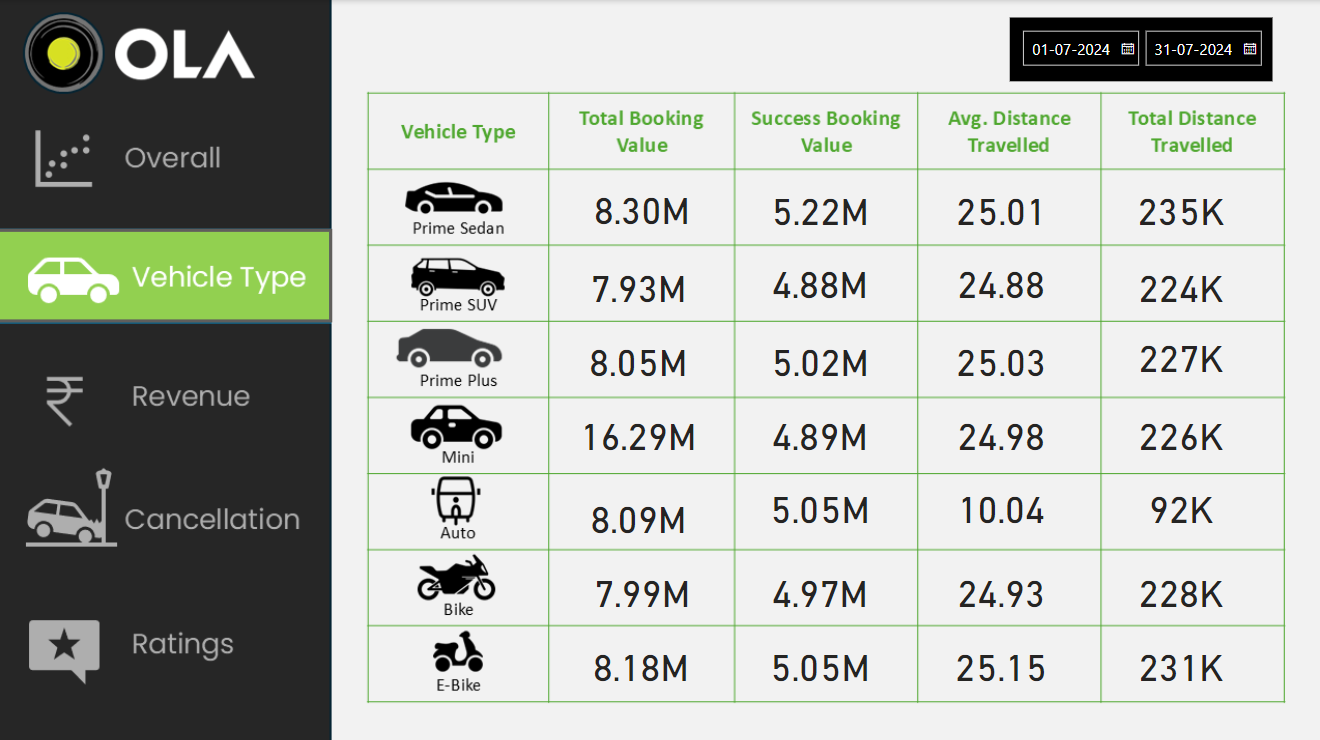

This screenshot's page, from the dashboard's own definition file:
{"tool":"powerbi","page":{"name":"Vehicle Type","canvas":[1280,720],"ordinal":1},"visuals":[{"type":"actionButton","box":[0,220.8,324.5,90.5],"z":0},{"type":"card","fields":{"Values":["Sum(July.Booking_Value)"]},"box":[539.3,165.3,168.9,71.2],"z":1000},{"type":"card","fields":{"Values":["Sum(July.Booking_Value)"]},"box":[535.7,240.3,169.1,71.2],"z":2000},{"type":"card","fields":{"Values":["Sum(July.Booking_Value)"]},"box":[535.7,311.5,169.1,71.2],"z":3000},{"type":"card","fields":{"Values":["Sum(July.Booking_Value)"]},"box":[535.7,382.7,169.1,71.2],"z":4000},{"type":"card","fields":{"Values":["Sum(July.Booking_Value)"]},"box":[535.7,462.7,169.1,71.2],"z":5000},{"type":"card","fields":{"Values":["Sum(July.Booking_Value)"]},"box":[539.3,533.9,169.1,71.2],"z":6000},{"type":"card","fields":{"Values":["Sum(July.Booking_Value)"]},"box":[537.5,605.1,169.1,71.2],"z":7000},{"type":"card","fields":{"Values":["Sum(July.Booking_Value)"]},"box":[708.4,165.5,174.4,71.2],"z":8000},{"type":"card","fields":{"Values":["Sum(July.Booking_Value)"]},"box":[708.4,236.7,174.4,71.2],"z":9000},{"type":"card","fields":{"Values":["Sum(July.Booking_Value)"]},"box":[708.4,311.5,174.4,71.2],"z":10000},{"type":"card","fields":{"Values":["Sum(July.Booking_Value)"]},"box":[708.4,382.7,174.4,71.2],"z":11000},{"type":"card","fields":{"Values":["Sum(July.Booking_Value)"]},"box":[708.4,453.8,174.4,71.2],"z":12000},{"type":"card","fields":{"Values":["Sum(July.Booking_Value)"]},"box":[708.4,533.9,174.4,71.2],"z":13000},{"type":"card","fields":{"Values":["Sum(July.Booking_Value)"]},"box":[708.4,605.1,174.4,71.2],"z":14000},{"type":"card","fields":{"Values":["Avg(July.Ride_Distance)"]},"box":[882.8,165.5,174.4,71.2],"z":15000},{"type":"card","fields":{"Values":["Avg(July.Ride_Distance)"]},"box":[882.8,236.7,174.4,71.2],"z":16000},{"type":"card","fields":{"Values":["Avg(July.Ride_Distance)"]},"box":[882.8,311.5,174.4,71.2],"z":17000},{"type":"card","fields":{"Values":["Avg(July.Ride_Distance)"]},"box":[882.8,382.7,174.4,71.2],"z":18000},{"type":"card","fields":{"Values":["Avg(July.Ride_Distance)"]},"box":[882.8,453.8,174.4,71.2],"z":19000},{"type":"card","fields":{"Values":["Avg(July.Ride_Distance)"]},"box":[882.8,533.9,174.4,71.2],"z":20000},{"type":"card","fields":{"Values":["Avg(July.Ride_Distance)"]},"box":[882.8,605.1,174.4,71.2],"z":21000},{"type":"card","fields":{"Values":["Sum(July.Ride_Distance)"]},"box":[1057.2,165.5,174.4,71.2],"z":22000},{"type":"card","fields":{"Values":["Sum(July.Ride_Distance)"]},"box":[1057.2,240.3,174.4,71.2],"z":23000},{"type":"card","fields":{"Values":["Sum(July.Ride_Distance)"]},"box":[1057.2,307.9,174.4,71.2],"z":24000},{"type":"card","fields":{"Values":["Sum(July.Ride_Distance)"]},"box":[1057.2,382.7,174.4,71.2],"z":25000},{"type":"card","fields":{"Values":["Sum(July.Ride_Distance)"]},"box":[1057.2,453.8,174.4,71.2],"z":26000},{"type":"card","fields":{"Values":["Sum(July.Ride_Distance)"]},"box":[1057.2,533.9,174.4,71.2],"z":27000},{"type":"card","fields":{"Values":["Sum(July.Ride_Distance)"]},"box":[1057.2,605.1,174.4,71.2],"z":28000},{"type":"slicer","title":"Date","fields":{"Values":["July.Date"]},"box":[978.4,16.9,253.4,61.5],"z":29000}]}

Visuals, with their boxes on the page's 1280x720 design canvas (x1, y1, x2, y2). These are canvas units, not pixel positions in the 1320x740 screenshot, which may show the page scaled, cropped or inside an application window:
actionButton: x1=0, y1=221, x2=324, y2=311
card - Sum(July.Booking_Value): x1=539, y1=165, x2=708, y2=236
card - Sum(July.Booking_Value): x1=536, y1=240, x2=705, y2=312
card - Sum(July.Booking_Value): x1=536, y1=312, x2=705, y2=383
card - Sum(July.Booking_Value): x1=536, y1=383, x2=705, y2=454
card - Sum(July.Booking_Value): x1=536, y1=463, x2=705, y2=534
card - Sum(July.Booking_Value): x1=539, y1=534, x2=708, y2=605
card - Sum(July.Booking_Value): x1=538, y1=605, x2=707, y2=676
card - Sum(July.Booking_Value): x1=708, y1=166, x2=883, y2=237
card - Sum(July.Booking_Value): x1=708, y1=237, x2=883, y2=308
card - Sum(July.Booking_Value): x1=708, y1=312, x2=883, y2=383
card - Sum(July.Booking_Value): x1=708, y1=383, x2=883, y2=454
card - Sum(July.Booking_Value): x1=708, y1=454, x2=883, y2=525
card - Sum(July.Booking_Value): x1=708, y1=534, x2=883, y2=605
card - Sum(July.Booking_Value): x1=708, y1=605, x2=883, y2=676
card - Avg(July.Ride_Distance): x1=883, y1=166, x2=1057, y2=237
card - Avg(July.Ride_Distance): x1=883, y1=237, x2=1057, y2=308
card - Avg(July.Ride_Distance): x1=883, y1=312, x2=1057, y2=383
card - Avg(July.Ride_Distance): x1=883, y1=383, x2=1057, y2=454
card - Avg(July.Ride_Distance): x1=883, y1=454, x2=1057, y2=525
card - Avg(July.Ride_Distance): x1=883, y1=534, x2=1057, y2=605
card - Avg(July.Ride_Distance): x1=883, y1=605, x2=1057, y2=676
card - Sum(July.Ride_Distance): x1=1057, y1=166, x2=1232, y2=237
card - Sum(July.Ride_Distance): x1=1057, y1=240, x2=1232, y2=312
card - Sum(July.Ride_Distance): x1=1057, y1=308, x2=1232, y2=379
card - Sum(July.Ride_Distance): x1=1057, y1=383, x2=1232, y2=454
card - Sum(July.Ride_Distance): x1=1057, y1=454, x2=1232, y2=525
card - Sum(July.Ride_Distance): x1=1057, y1=534, x2=1232, y2=605
card - Sum(July.Ride_Distance): x1=1057, y1=605, x2=1232, y2=676
"Date" slicer: x1=978, y1=17, x2=1232, y2=78
